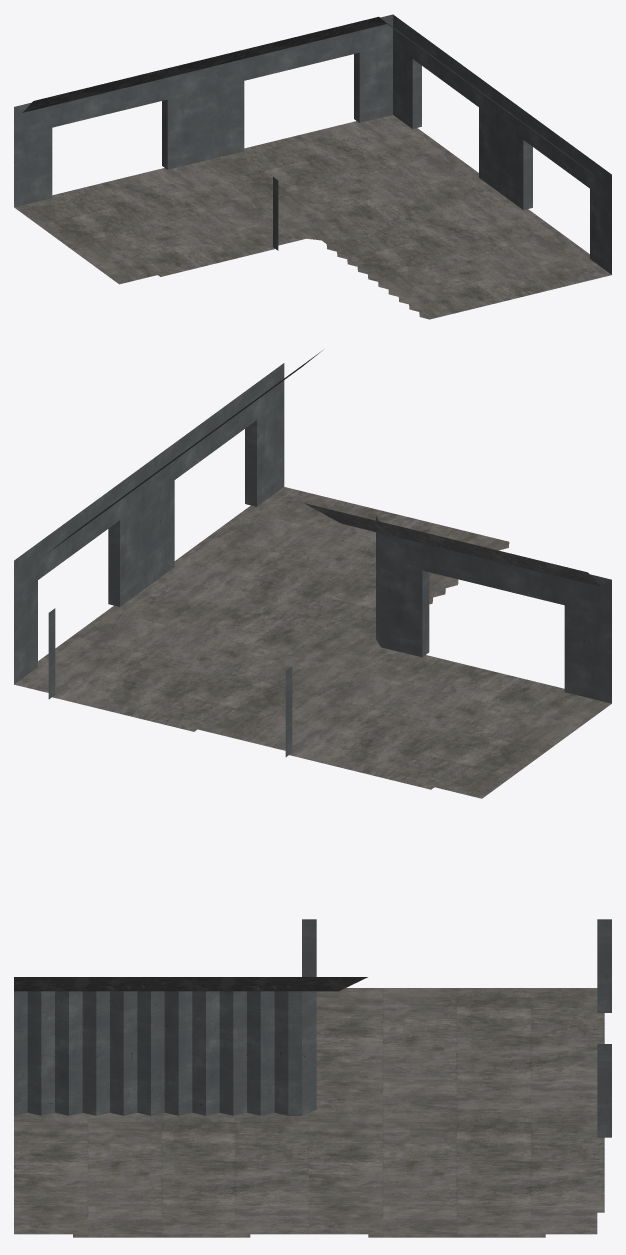
File: hallway_L.glb
The picture shows the model from 3 angles, top to bottom: view 1: azimuth 30°, elevation 25°; view 2: azimuth 150°, elevation 25°; view 3: azimuth 270°, elevation 25°; orthographic projection. The views are drawn at different scales.
Visible parts, largest first — view 1: LShapeHallway -col; view 2: LShapeHallway -col; view 3: LShapeHallway -col.
Boxes of the visible parts, x1=… form: LShapeHallway -col: x1=14, y1=14, x2=611, y2=319; LShapeHallway -col: x1=14, y1=350, x2=611, y2=798; LShapeHallway -col: x1=14, y1=919, x2=611, y2=1237.
Size of the model in its own units: 20.25 by 6 by 20.25.
3 materials, 3 textured.
